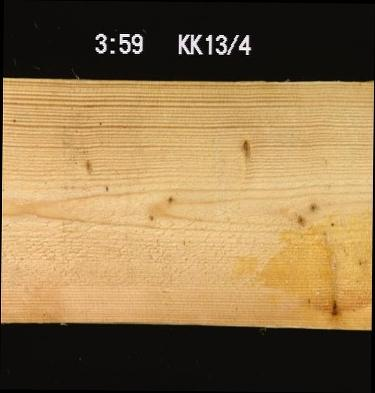small_knot: (238, 136, 253, 166), (81, 156, 92, 174), (164, 193, 174, 205)
